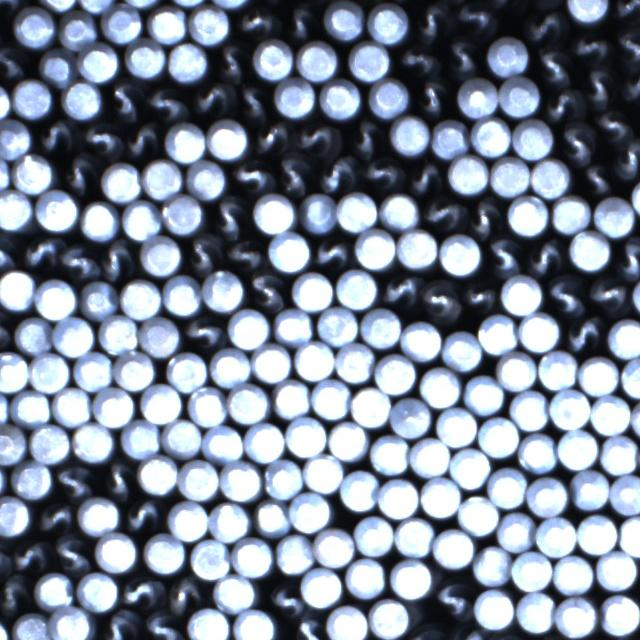tool: (35, 188, 80, 231), (143, 532, 187, 574), (334, 266, 377, 308), (420, 365, 463, 407), (36, 278, 79, 320), (208, 500, 252, 541), (319, 78, 363, 119), (12, 5, 56, 46), (594, 194, 636, 236), (554, 596, 596, 638), (10, 152, 52, 194), (201, 268, 243, 310), (253, 38, 295, 80), (163, 120, 205, 162), (140, 234, 182, 276), (140, 316, 182, 358), (438, 230, 480, 272), (227, 308, 270, 349), (457, 76, 500, 117), (94, 531, 137, 572), (227, 383, 270, 424), (577, 355, 619, 396), (355, 227, 397, 268), (570, 229, 612, 270), (390, 396, 432, 437), (179, 459, 220, 501), (293, 339, 335, 380), (220, 460, 262, 501), (507, 194, 549, 235), (343, 558, 385, 599), (53, 316, 95, 357), (119, 278, 161, 319), (335, 190, 377, 231), (442, 329, 483, 371), (369, 597, 410, 639), (375, 351, 417, 392), (297, 40, 339, 81), (477, 417, 519, 458), (253, 192, 295, 233), (288, 492, 331, 532), (72, 422, 115, 462), (140, 384, 183, 424), (346, 40, 389, 80), (390, 557, 433, 597), (377, 476, 418, 517), (285, 417, 326, 458), (361, 306, 402, 347), (513, 118, 554, 159), (549, 389, 590, 430), (395, 515, 436, 556), (101, 160, 142, 201), (448, 154, 489, 195), (487, 34, 528, 75), (190, 537, 231, 578), (457, 495, 498, 536), (464, 373, 505, 414), (273, 77, 315, 117), (499, 76, 541, 116), (91, 388, 133, 428), (351, 384, 391, 426), (556, 428, 598, 468), (291, 269, 333, 309), (162, 274, 202, 316), (472, 590, 514, 630), (267, 230, 309, 270), (11, 458, 53, 498), (397, 228, 439, 268), (299, 566, 341, 606), (210, 346, 252, 386), (12, 78, 54, 118), (186, 159, 228, 199), (316, 306, 358, 346), (433, 526, 475, 566), (525, 475, 567, 515), (500, 273, 542, 313), (232, 537, 274, 577), (120, 199, 162, 239), (518, 311, 560, 351), (77, 496, 119, 536), (78, 41, 120, 81), (497, 349, 539, 389), (367, 78, 409, 118), (340, 468, 379, 511), (354, 514, 394, 555), (471, 116, 512, 156), (166, 500, 207, 540), (491, 155, 532, 195), (408, 436, 449, 476), (138, 453, 179, 493), (78, 571, 119, 611), (245, 422, 286, 462), (311, 378, 352, 418), (572, 469, 612, 510), (206, 118, 247, 158), (577, 513, 618, 553), (421, 476, 462, 516), (165, 350, 206, 390), (478, 314, 518, 355), (511, 550, 552, 590), (100, 4, 141, 44), (509, 389, 549, 430), (389, 113, 429, 154), (450, 446, 490, 487), (162, 193, 202, 234), (141, 158, 182, 198), (600, 594, 640, 635), (473, 544, 513, 585), (597, 550, 638, 590), (368, 3, 408, 44), (514, 592, 553, 634), (188, 5, 230, 44), (29, 353, 71, 392), (312, 528, 354, 567), (98, 314, 138, 354), (52, 386, 92, 426), (536, 515, 576, 555), (329, 420, 369, 460), (539, 348, 579, 388), (264, 458, 304, 498), (436, 405, 476, 445), (402, 321, 442, 361), (147, 4, 187, 44), (122, 418, 162, 458), (168, 42, 208, 82), (590, 394, 630, 434), (30, 422, 70, 462), (600, 434, 640, 474), (432, 118, 472, 158), (303, 454, 344, 493), (187, 386, 226, 427), (252, 342, 293, 381), (114, 351, 155, 390), (325, 1, 366, 40), (214, 573, 256, 611), (299, 192, 337, 234), (74, 352, 114, 391), (369, 434, 408, 474), (336, 341, 375, 381), (204, 424, 244, 463), (532, 157, 572, 196), (274, 534, 312, 575), (488, 467, 526, 508), (554, 554, 595, 592), (82, 199, 120, 240), (124, 38, 165, 76), (326, 604, 369, 640), (163, 418, 202, 457), (552, 195, 591, 234), (81, 281, 120, 320), (58, 9, 97, 48), (34, 570, 74, 608), (272, 306, 312, 344), (273, 379, 311, 419), (499, 510, 537, 550), (518, 432, 556, 472), (380, 192, 420, 230), (63, 82, 103, 120), (15, 316, 53, 355), (10, 390, 50, 427), (0, 267, 34, 309), (188, 606, 230, 640), (49, 606, 91, 640), (233, 607, 276, 640), (41, 48, 78, 86), (606, 318, 640, 358), (254, 499, 290, 536), (0, 190, 32, 230), (0, 117, 31, 158), (0, 496, 30, 537), (610, 473, 640, 514), (0, 352, 27, 392), (13, 611, 50, 640), (0, 424, 25, 465), (567, 0, 609, 21), (619, 513, 640, 554), (621, 357, 640, 397), (78, 0, 118, 12), (0, 151, 10, 193), (0, 81, 11, 119), (39, 0, 78, 10), (0, 387, 9, 428), (631, 397, 640, 437), (631, 177, 640, 217), (209, 0, 252, 8), (632, 276, 640, 316), (119, 0, 163, 7), (169, 0, 208, 6)
tool_b: (419, 276, 462, 321), (432, 577, 473, 621), (543, 273, 585, 315), (439, 37, 481, 79), (293, 120, 339, 158), (484, 234, 524, 277), (411, 0, 451, 43), (144, 83, 189, 121), (315, 153, 357, 193), (210, 196, 250, 238), (532, 46, 572, 88), (50, 533, 92, 573), (57, 241, 99, 281), (105, 79, 144, 122), (360, 154, 404, 192), (586, 272, 627, 312), (57, 154, 97, 195), (558, 121, 596, 164), (245, 270, 285, 310), (52, 462, 94, 500), (81, 120, 123, 158), (119, 573, 163, 609), (165, 575, 205, 614), (562, 316, 603, 354), (237, 3, 280, 39), (345, 118, 384, 157), (185, 232, 222, 273), (467, 196, 504, 237), (191, 80, 232, 117), (21, 233, 62, 270), (378, 270, 419, 307), (182, 315, 224, 351), (276, 154, 312, 196), (223, 234, 265, 270), (421, 195, 463, 231), (452, 0, 496, 34), (527, 237, 565, 276), (234, 82, 272, 121), (123, 496, 163, 533), (311, 234, 352, 270), (99, 241, 135, 282), (212, 43, 248, 84), (229, 158, 271, 193), (396, 43, 438, 78), (582, 66, 616, 109), (124, 120, 162, 158), (413, 77, 450, 116), (10, 538, 50, 574), (252, 120, 292, 156), (543, 86, 583, 122), (34, 500, 74, 536), (96, 608, 140, 640), (284, 2, 320, 41), (36, 118, 76, 153), (571, 27, 611, 62), (141, 609, 186, 640), (596, 108, 634, 144), (266, 581, 303, 617), (407, 158, 444, 194), (524, 9, 562, 44), (102, 461, 135, 500), (0, 573, 30, 614), (464, 278, 498, 311), (614, 237, 640, 280), (614, 138, 640, 181), (290, 612, 328, 640), (580, 162, 612, 195), (614, 25, 640, 65), (0, 43, 26, 81), (619, 67, 640, 107), (399, 625, 452, 640), (442, 624, 487, 640), (0, 230, 17, 271), (611, 0, 640, 20), (0, 310, 13, 351)
